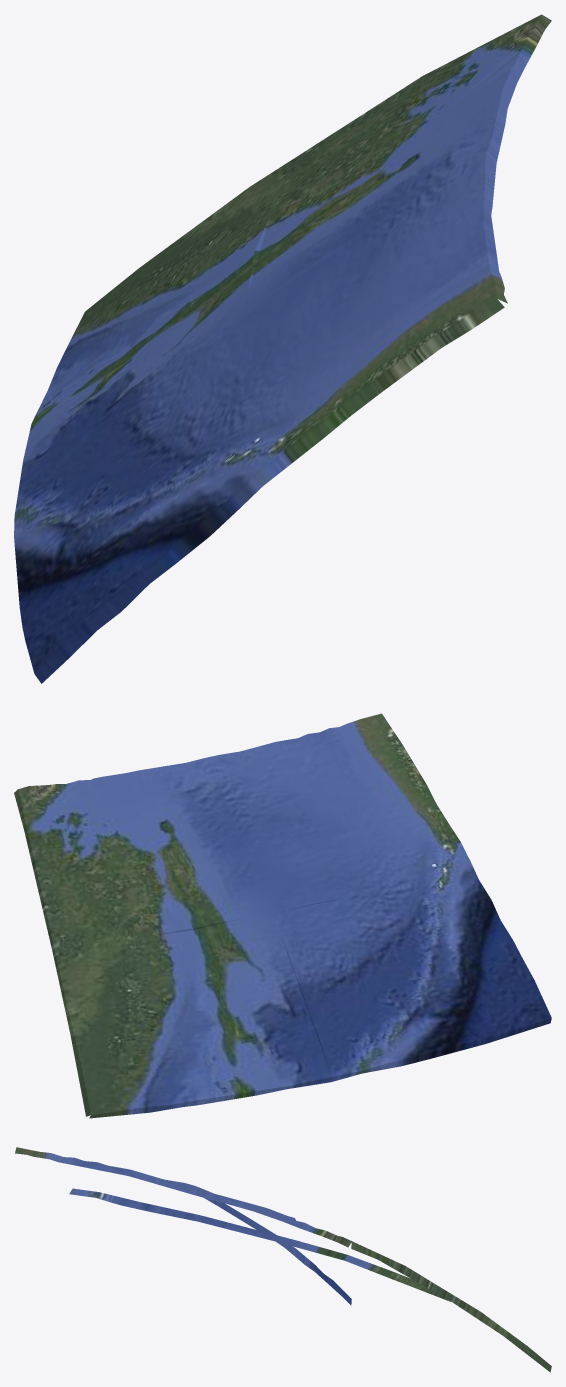
3 renders of one model, top to bottom at view 1: azimuth 30°, elevation 25°; view 2: azimuth 150°, elevation 25°; view 3: azimuth 270°, elevation 25°, orthographic. The views are drawn at different scales.
Size of the model in its own units: 1676616 by 829741 by 1854208.
1 material, 1 textured.
